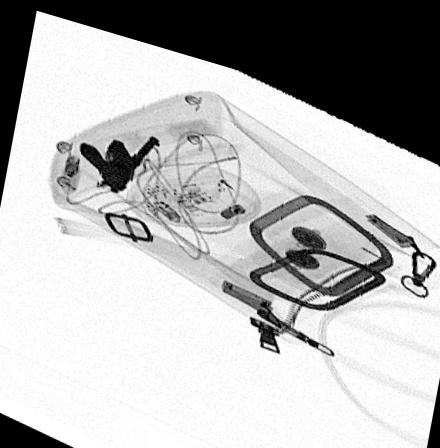Gun: (80, 123, 162, 188)
